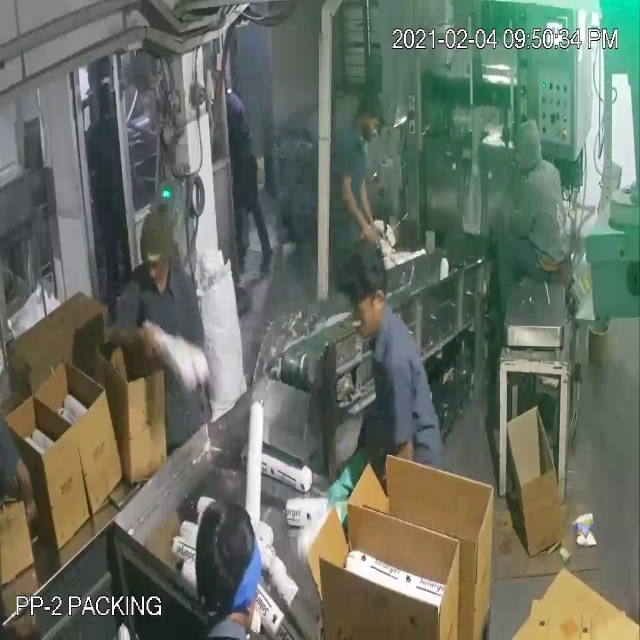Guantes: (317, 433, 372, 525)
Sin_guantes: (334, 159, 386, 266), (7, 432, 48, 531), (106, 309, 159, 364)
